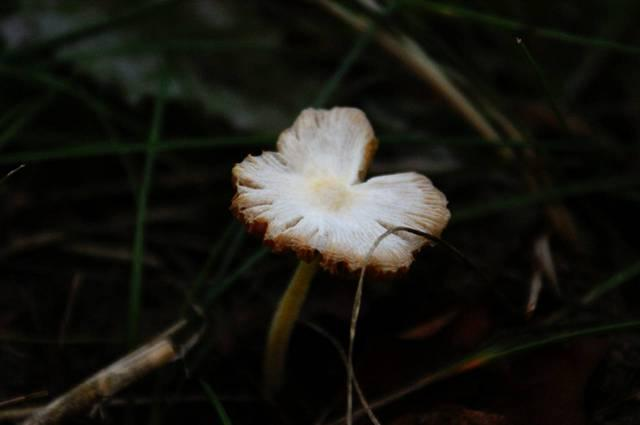edible_mushroom: (229, 104, 451, 419)
